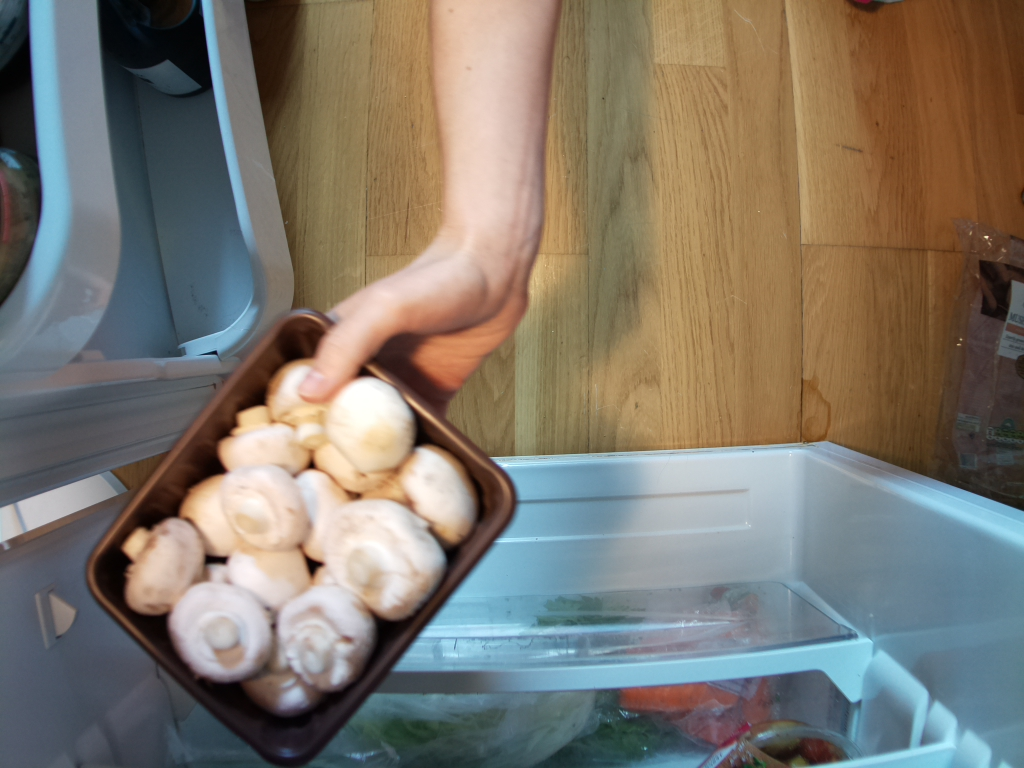mushrooms: (76, 300, 513, 760)
